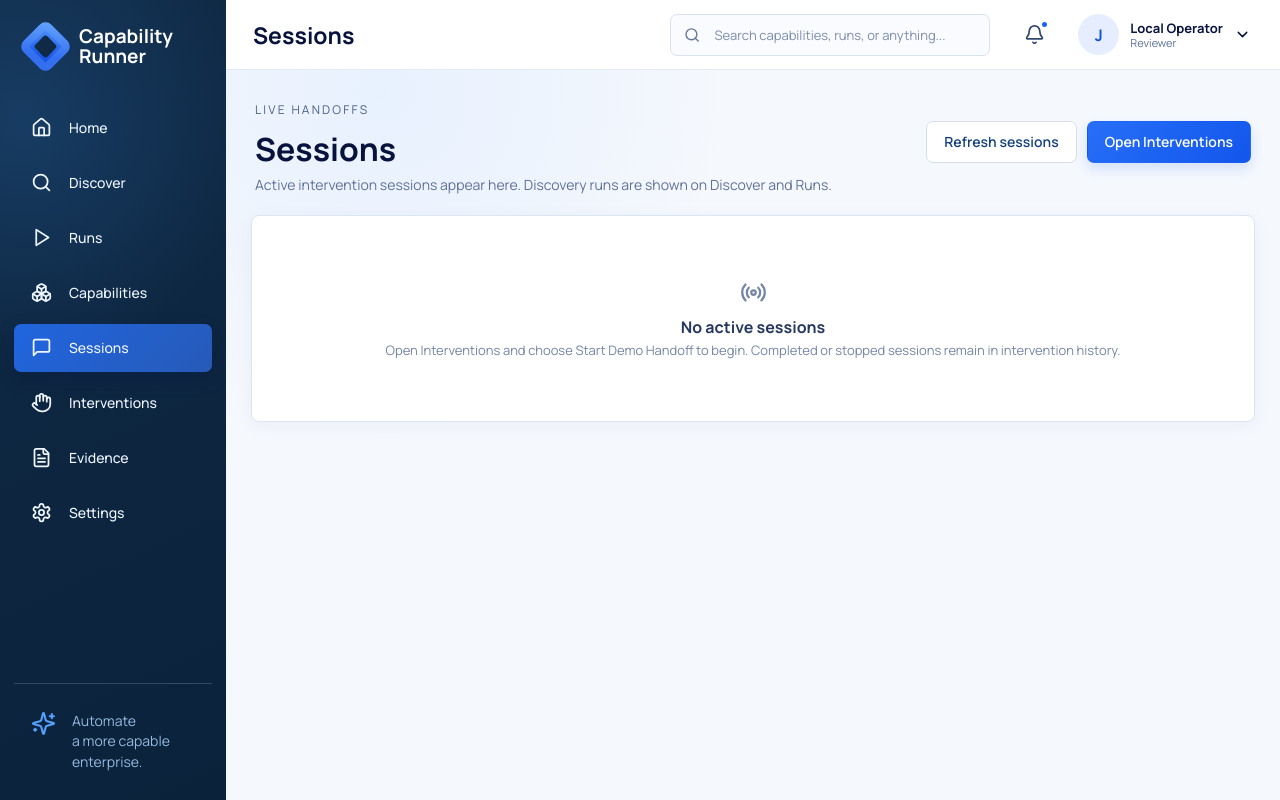
Test: Capability Runner product frontend › offers a handoff entry point and refreshes only active intervention sessions
expect the heading "No active sessions" is shown: met, box [681,316,825,338]
Click the button "Refresh sessions": (1002, 142) [926,121,1077,163]
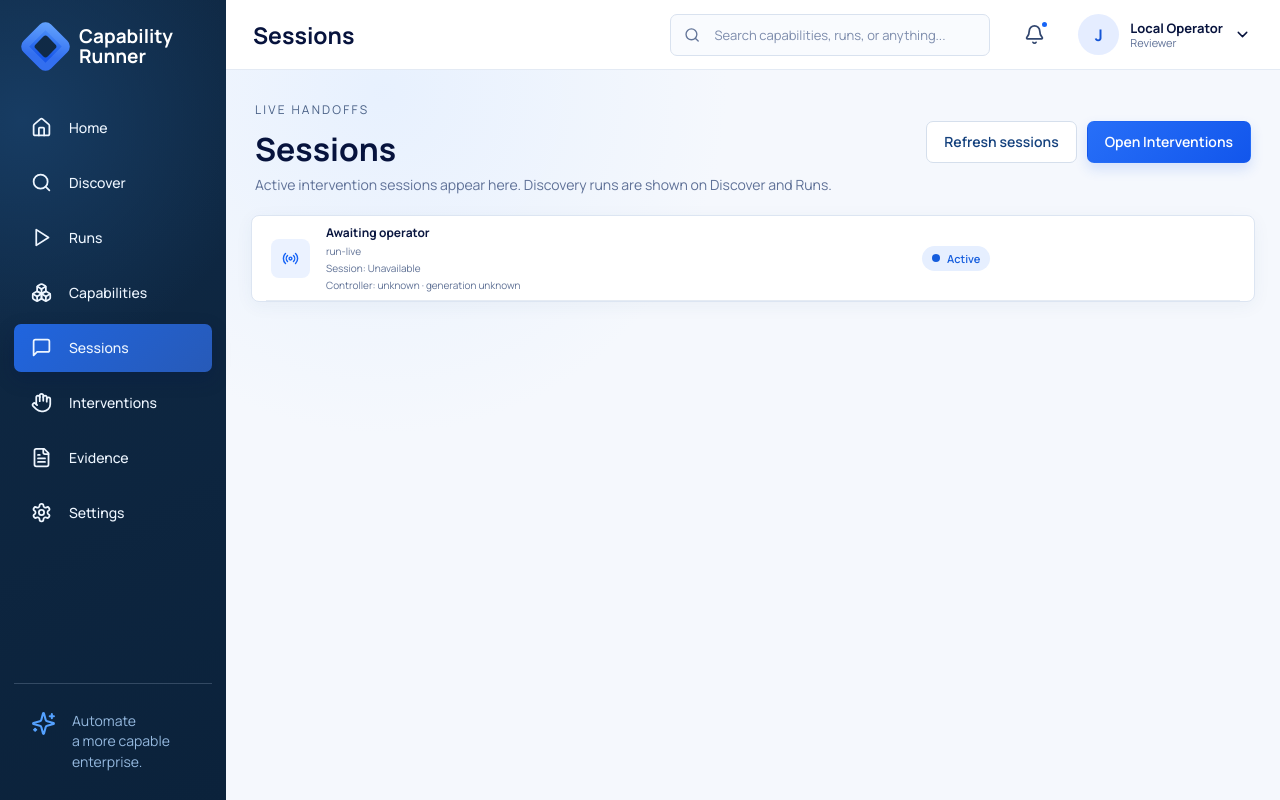
expect the text "run-live" is shown: met, box [326,244,361,258]
